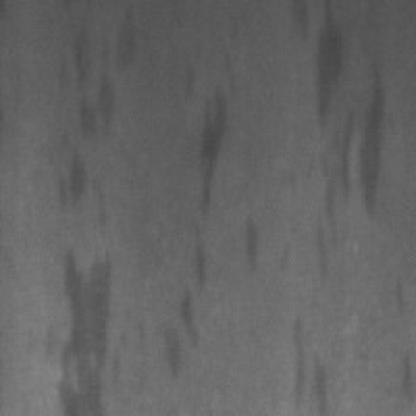inclusion: (35, 6, 127, 410), (154, 77, 229, 376), (308, 0, 385, 256), (285, 310, 329, 410), (235, 206, 262, 268)
